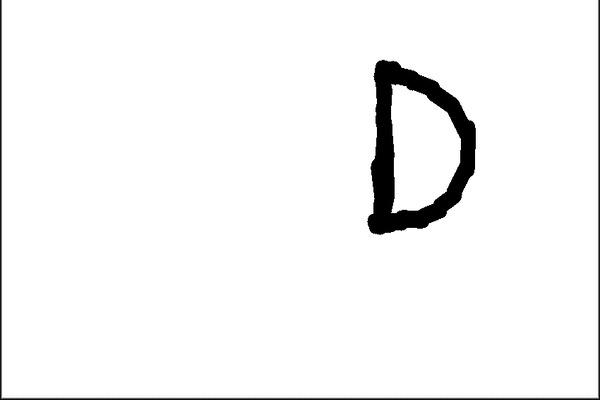D: (361, 56, 480, 238)
